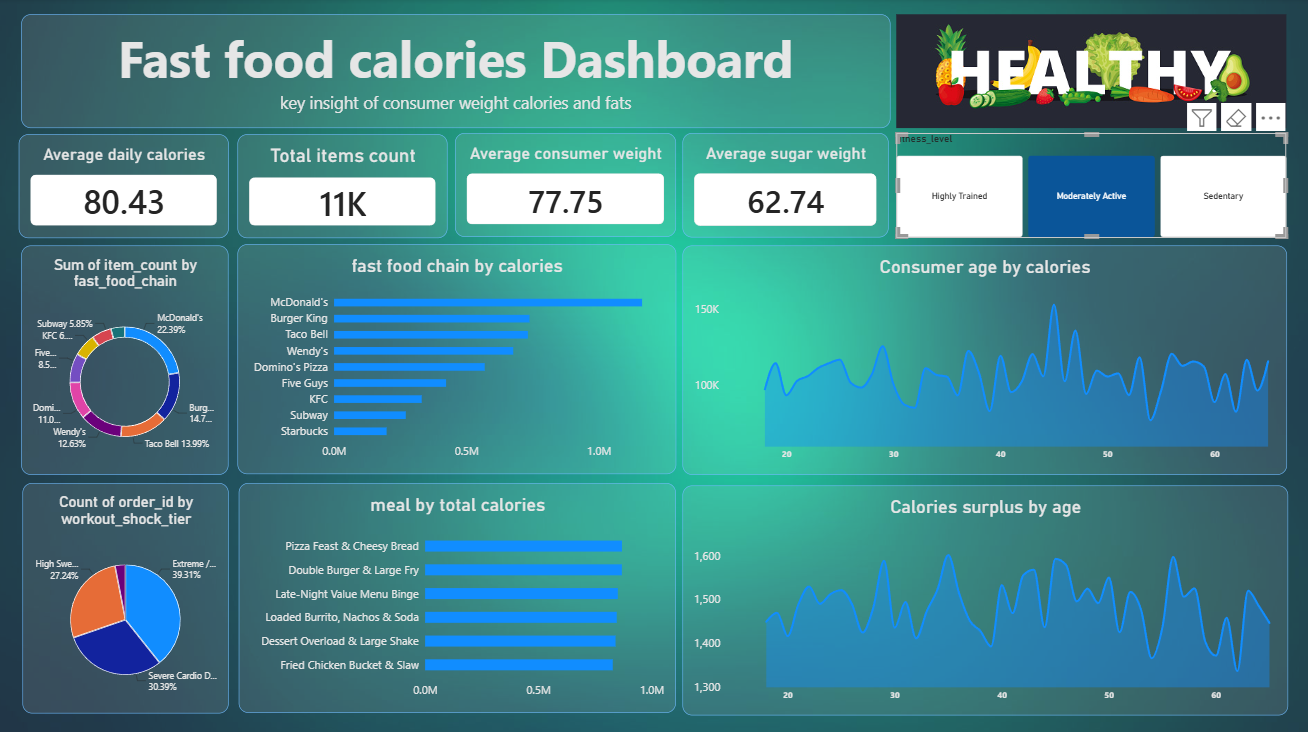

What the dashboard file says about the page in this screenshot:
{"tool":"powerbi","page":{"name":"Page 1","canvas":[1920,1080],"ordinal":0},"visuals":[{"type":"clusteredBarChart","title":"meal by total calories","fields":{"Category":["fast_food_calorie_dataset (1).meal_category"],"Y":["Sum(fast_food_calorie_dataset (1).total_calories)"]},"box":[353,703,633,333],"z":0},{"type":"stackedAreaChart","title":"Consumer age by calories","fields":{"Category":["fast_food_calorie_dataset (1).consumer_age"],"Y":["Sum(fast_food_calorie_dataset (1).total_calories)"]},"box":[996,359,875,332],"z":1000},{"type":"stackedAreaChart","title":"Calories surplus by age","fields":{"Category":["fast_food_calorie_dataset (1).consumer_age"],"Y":["fast_food_calorie_dataset (1).Avgcaloriessurplus"]},"box":[996,705,877,333],"z":2000},{"type":"donutChart","fields":{"Category":["fast_food_calorie_dataset (1).fast_food_chain"],"Y":["Sum(fast_food_calorie_dataset (1).item_count)"]},"box":[38,358,300,332],"z":3000},{"type":"pieChart","fields":{"Category":["fast_food_calorie_dataset (1).workout_shock_tier"],"Y":["CountNonNull(fast_food_calorie_dataset (1).order_id)"]},"box":[39.1,701.9,298.5,333.4],"z":4000},{"type":"textbox","box":[37.3,22.7,1258.2,164.5],"z":5000},{"type":"cardVisual","title":"Average daily calories","fields":{"Data":["Avg(fast_food_calorie_dataset (1).daily_calorie_allowance_pct)"]},"box":[34.5,196.4,304,150],"z":6000},{"type":"cardVisual","title":"Total items count","fields":{"Data":["Sum(fast_food_calorie_dataset (1).item_count)"]},"box":[351.8,196.4,304,150],"z":7000},{"type":"cardVisual","title":"Average consumer weight","fields":{"Data":["Avg(fast_food_calorie_dataset (1).consumer_weight_kg)"]},"box":[665.7,195.7,320,150],"z":8000},{"type":"cardVisual","title":"Average sugar weight","fields":{"Data":["Avg(fast_food_calorie_dataset (1).sugar_grams)"]},"box":[995.7,195.7,298.6,151.4],"z":9000},{"type":"clusteredBarChart","title":"fast food chain by calories","fields":{"Category":["fast_food_calorie_dataset (1).fast_food_chain"],"Y":["Sum(fast_food_calorie_dataset (1).total_calories)"]},"box":[351,357,635,333],"z":10000},{"type":"advancedSlicerVisual","fields":{"Values":["fast_food_calorie_dataset (1).fitness_level"]},"box":[1305,196,565,151],"z":11000},{"type":"image","box":[1305,23,565,165],"z":12000}]}

Visuals, with their boxes in screenshot pixels (x1, y1, x2, y2), scaled from the page's 1920x1080 canvas onto the 1308x732 screenshot:
"meal by total calories" clusteredBarChart: <bbox>240, 476, 672, 702</bbox>
"Consumer age by calories" stackedAreaChart: <bbox>679, 243, 1275, 468</bbox>
"Calories surplus by age" stackedAreaChart: <bbox>679, 478, 1276, 704</bbox>
donutChart - fast_food_calorie_dataset (1).fast_food_chain x Sum(fast_food_calorie_dataset (1).item_count): <bbox>26, 243, 230, 468</bbox>
pieChart - fast_food_calorie_dataset (1).workout_shock_tier x CountNonNull(fast_food_calorie_dataset (1).order_id): <bbox>27, 476, 230, 702</bbox>
textbox: <bbox>25, 15, 883, 127</bbox>
"Average daily calories" cardVisual: <bbox>24, 133, 231, 235</bbox>
"Total items count" cardVisual: <bbox>240, 133, 447, 235</bbox>
"Average consumer weight" cardVisual: <bbox>454, 133, 672, 234</bbox>
"Average sugar weight" cardVisual: <bbox>678, 133, 882, 235</bbox>
"fast food chain by calories" clusteredBarChart: <bbox>239, 242, 672, 468</bbox>
advancedSlicerVisual - fast_food_calorie_dataset (1).fitness_level: <bbox>889, 133, 1274, 235</bbox>
image: <bbox>889, 16, 1274, 127</bbox>
